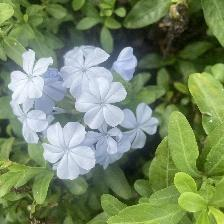chitrak: (45, 121, 96, 181), (10, 49, 54, 103), (84, 80, 130, 129), (60, 50, 116, 90), (119, 106, 163, 146), (88, 122, 126, 156), (11, 108, 49, 138)
